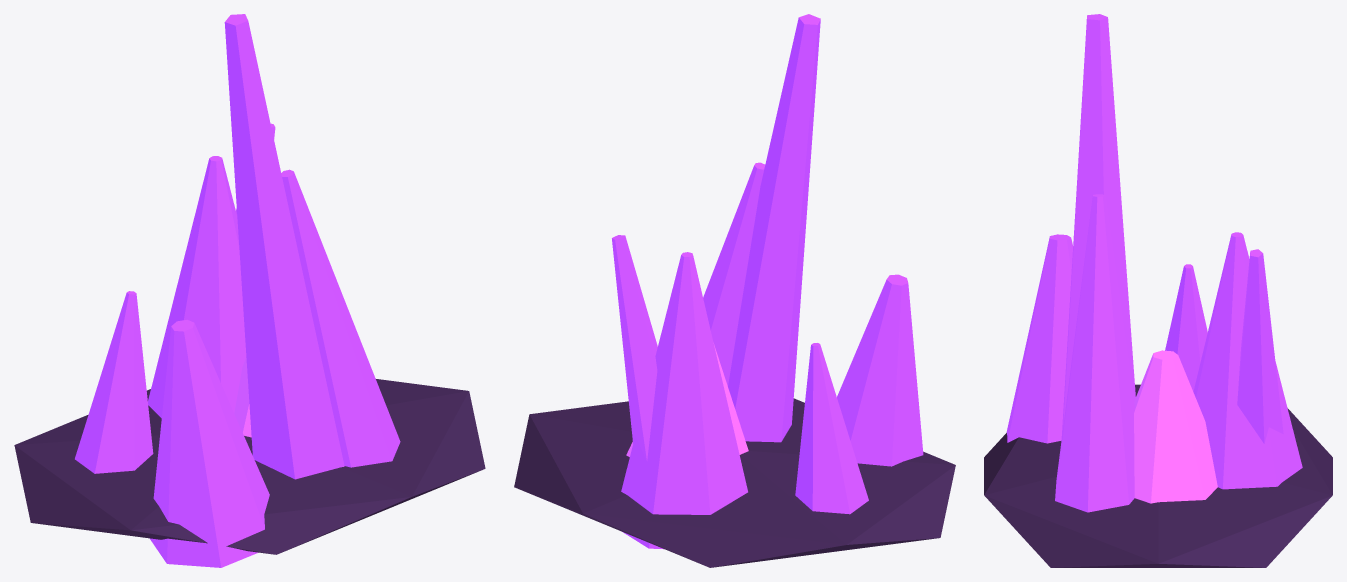
Rendered from mire_crystal_a.glb.
3 renders of one model, left to right at view 1: azimuth 30°, elevation 25°; view 2: azimuth 150°, elevation 25°; view 3: azimuth 270°, elevation 25°, orthographic. The views are drawn at different scales.
Parts seen in each view (by area): view 1: Mire_Base, Crystal_6, Crystal_5, Crystal_3, Crystal_7, Crystal_4, Crystal_1; view 2: Mire_Base, Crystal_6, Crystal_3, Crystal_5, Crystal_4, Crystal_2, Crystal_7, Crystal_1; view 3: Mire_Base, Crystal_7, Crystal_3, Crystal_6, Crystal_1, Crystal_5, Crystal_2, Crystal_4.
Part boxes in pixels (x1,y1,x2,y2): Mire_Base: (14, 379, 485, 554); Crystal_6: (224, 14, 344, 479); Crystal_5: (149, 319, 269, 567); Crystal_3: (148, 156, 246, 417); Crystal_7: (281, 169, 400, 467); Crystal_4: (75, 291, 153, 473); Crystal_1: (234, 357, 251, 437); Mire_Base: (514, 398, 955, 567); Crystal_6: (728, 14, 820, 442); Crystal_3: (621, 252, 747, 549); Crystal_5: (837, 274, 923, 466); Crystal_4: (795, 343, 868, 514); Crystal_2: (612, 235, 657, 461); Crystal_7: (703, 162, 765, 386); Crystal_1: (626, 343, 748, 456); Mire_Base: (984, 384, 1332, 567); Crystal_7: (1055, 194, 1134, 512); Crystal_3: (1193, 232, 1302, 489); Crystal_6: (1061, 14, 1135, 437); Crystal_1: (1134, 350, 1217, 503); Crystal_5: (1006, 234, 1073, 443); Crystal_2: (1237, 249, 1283, 443); Crystal_4: (1165, 264, 1207, 391).
Bounding box in the file's own units: 1.65 × 1.8 × 1.22.
